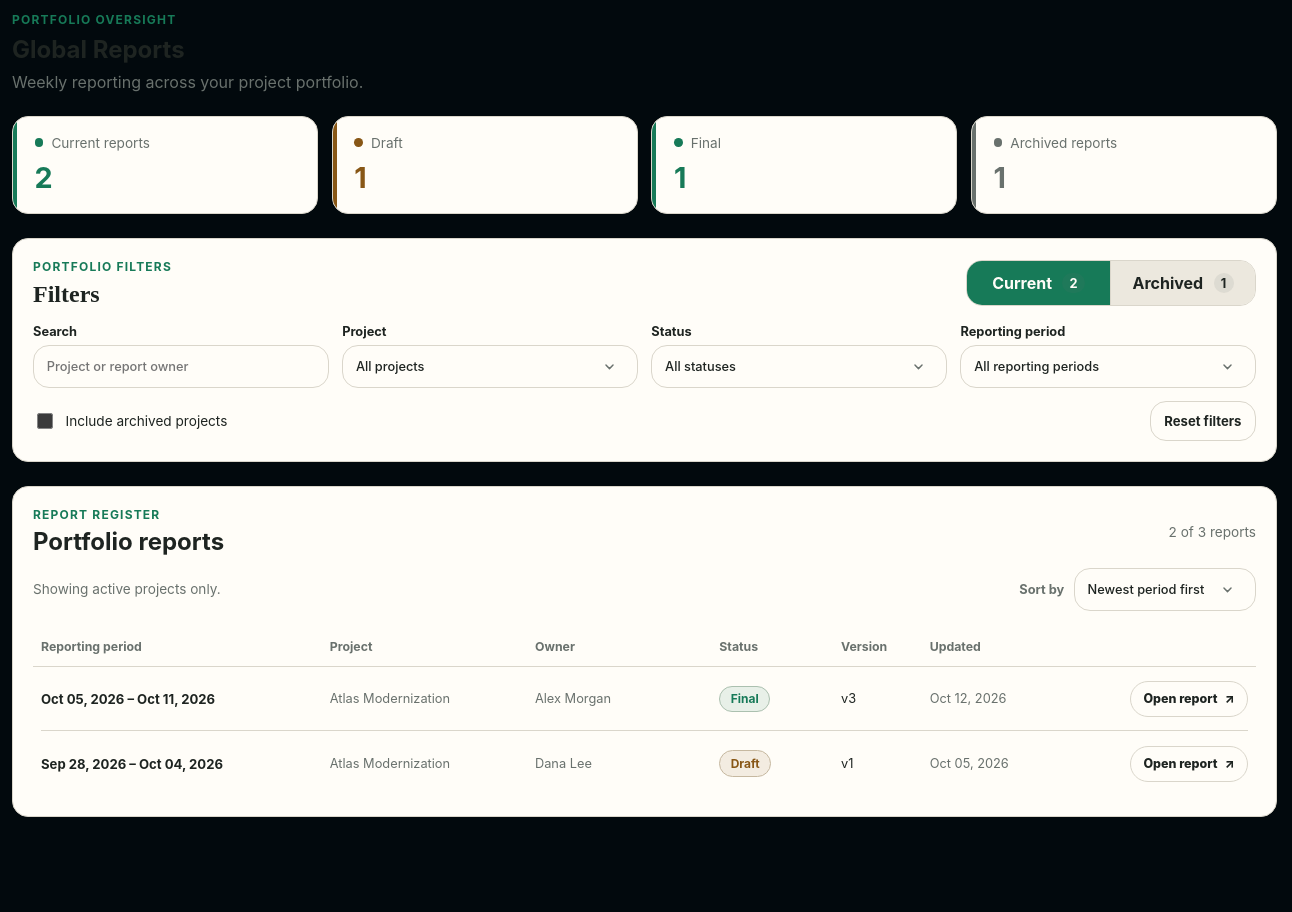
GlobalReportsPage › combines filters, displays no matches, and resets without altering KPI counts
The width and height of the screenshot is (1292, 912).
Check: the heading "Global Reports" is shown, box [12, 35, 185, 64]
Step 1. Select "Draft" in the dropdown labelled "Status" → (799, 367), box [651, 345, 947, 388]
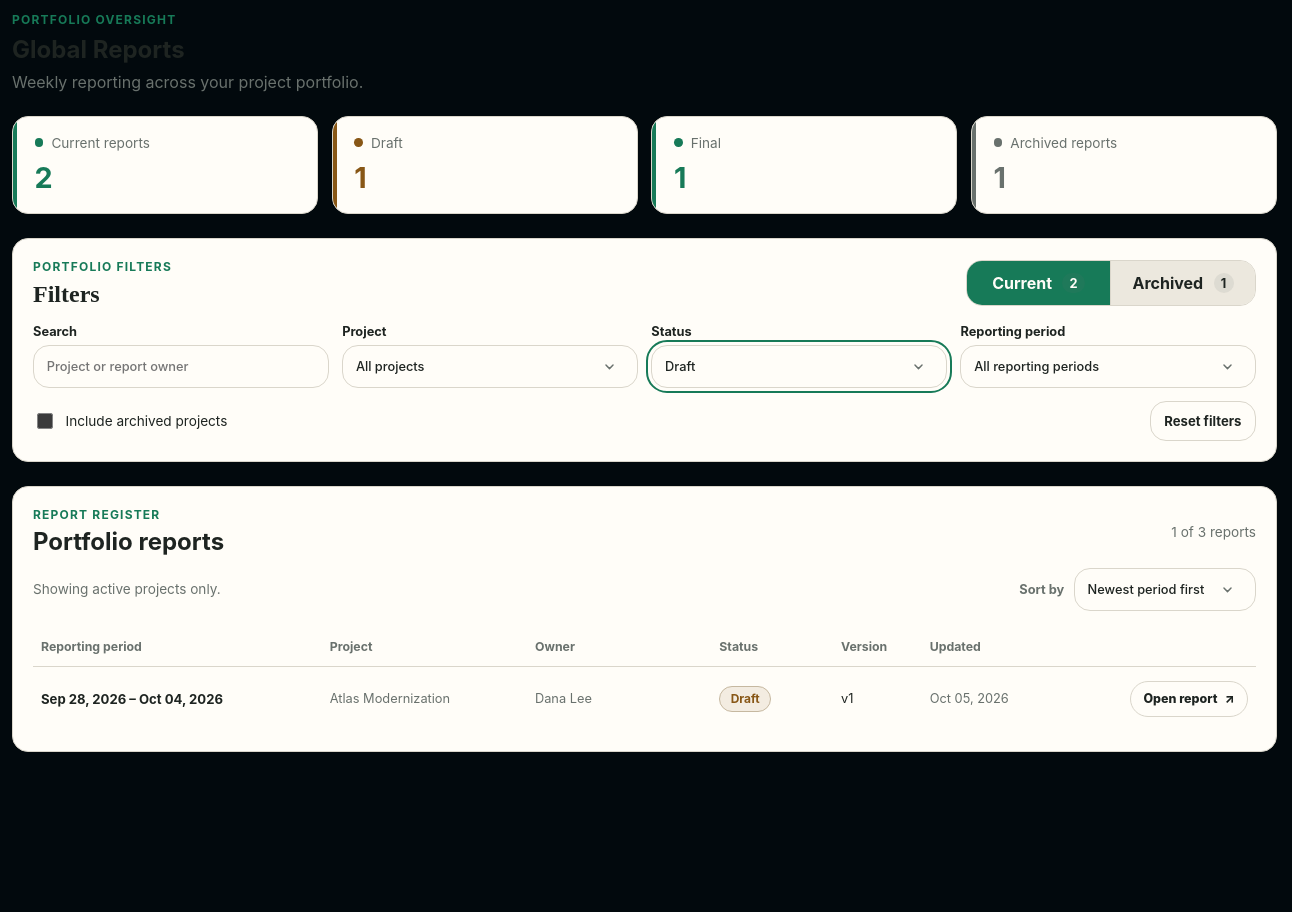
Check: the number of links "Open report ↗" is 1, box [1130, 681, 1248, 717]
Step 2. Type "unmatched" into the search field labelled "Search" → (181, 367), box [33, 345, 328, 388]
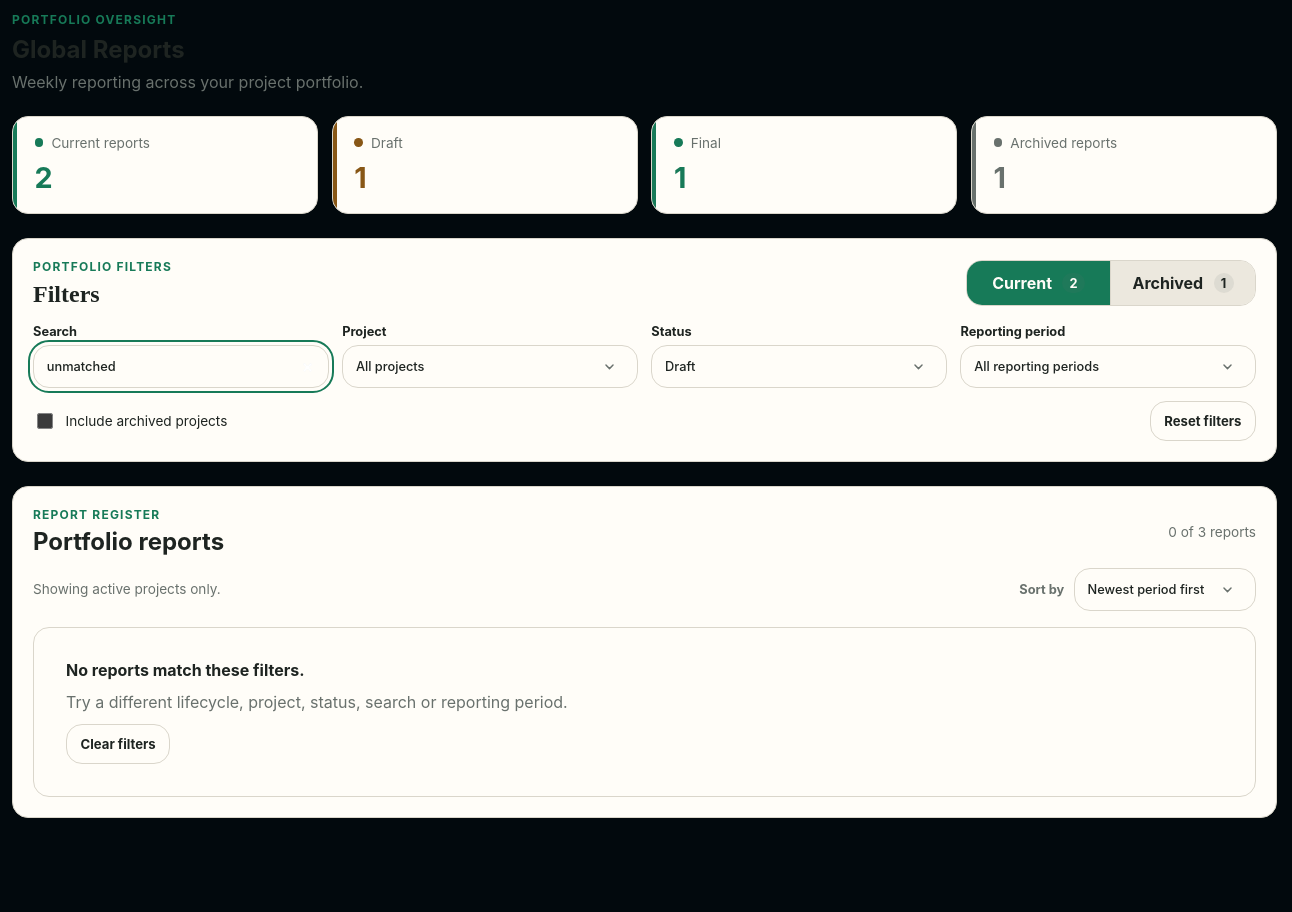
Check: the text "No reports match these filters." is shown, box [66, 660, 305, 680]
Step 3. Click the button "Clear filters" → (118, 744), box [66, 724, 170, 764]
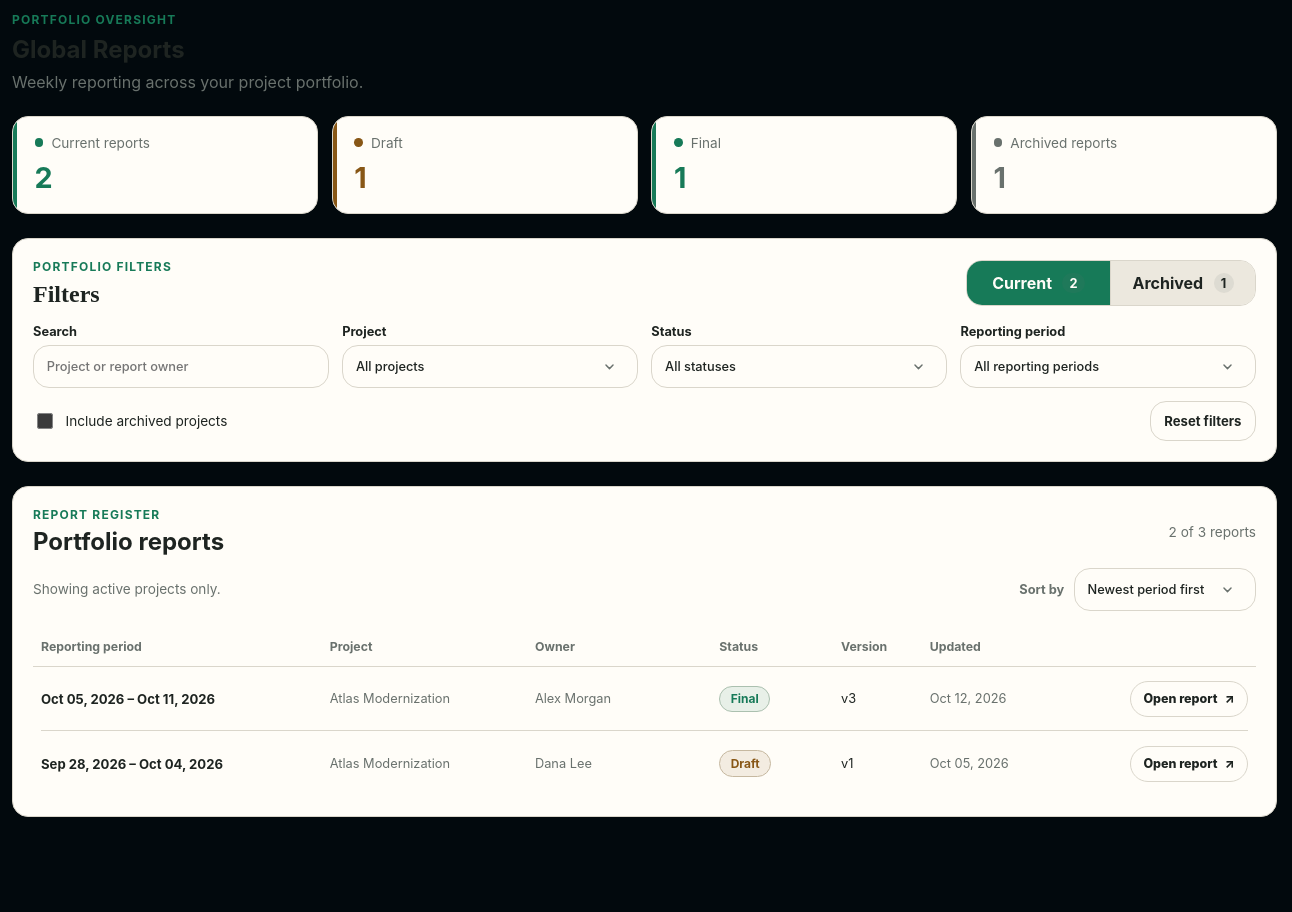
Check: the number of links "Open report ↗" is 2, box [1130, 681, 1248, 717]; [1130, 746, 1248, 782]
